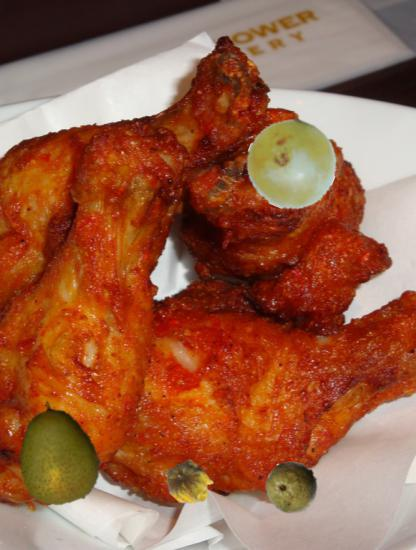Grape: (246, 118, 338, 210)
Guava: (265, 460, 320, 515)
Pear: (3, 402, 108, 507)
Physalis: (163, 458, 216, 511)
Tamarillo: (248, 126, 332, 210)
